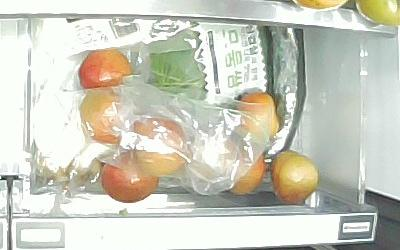prune: (100, 151, 160, 204), (272, 148, 319, 206), (79, 49, 135, 89)
prune_vinyl: (129, 116, 190, 176), (79, 89, 138, 145), (222, 139, 267, 194), (234, 92, 281, 140)
